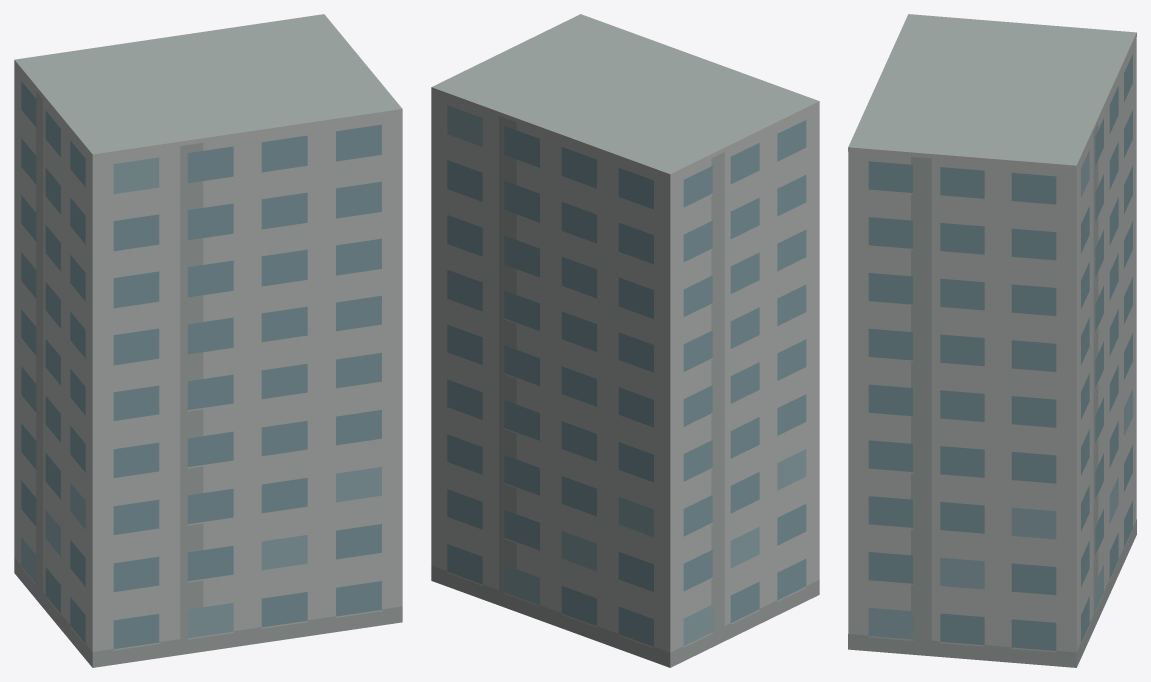
The model's file is residential-6049f1f3-b178-4514-8856-1430e93b86db.glb.
3 renders of one model, left to right at view 1: azimuth 30°, elevation 25°; view 2: azimuth 150°, elevation 25°; view 3: azimuth 270°, elevation 25°, orthographic. The views are drawn at different scales.
Parts seen in each view (by area): view 1: residential-6049f1f3-b178-4514-8856-1430e93b86db.tmp; view 2: residential-6049f1f3-b178-4514-8856-1430e93b86db.tmp; view 3: residential-6049f1f3-b178-4514-8856-1430e93b86db.tmp.
Part boxes in pixels (box(x1,y1,x2,y2)): residential-6049f1f3-b178-4514-8856-1430e93b86db.tmp: box(14, 14, 402, 667); residential-6049f1f3-b178-4514-8856-1430e93b86db.tmp: box(431, 14, 819, 667); residential-6049f1f3-b178-4514-8856-1430e93b86db.tmp: box(848, 14, 1136, 667).
Size of the model in its own units: 18.14 by 28 by 14.59.
